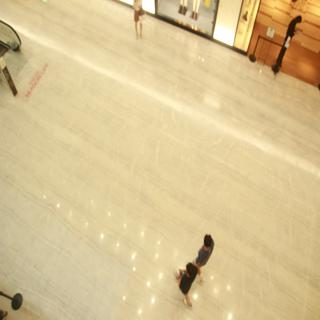person: (173, 258, 206, 314), (198, 233, 219, 278)
